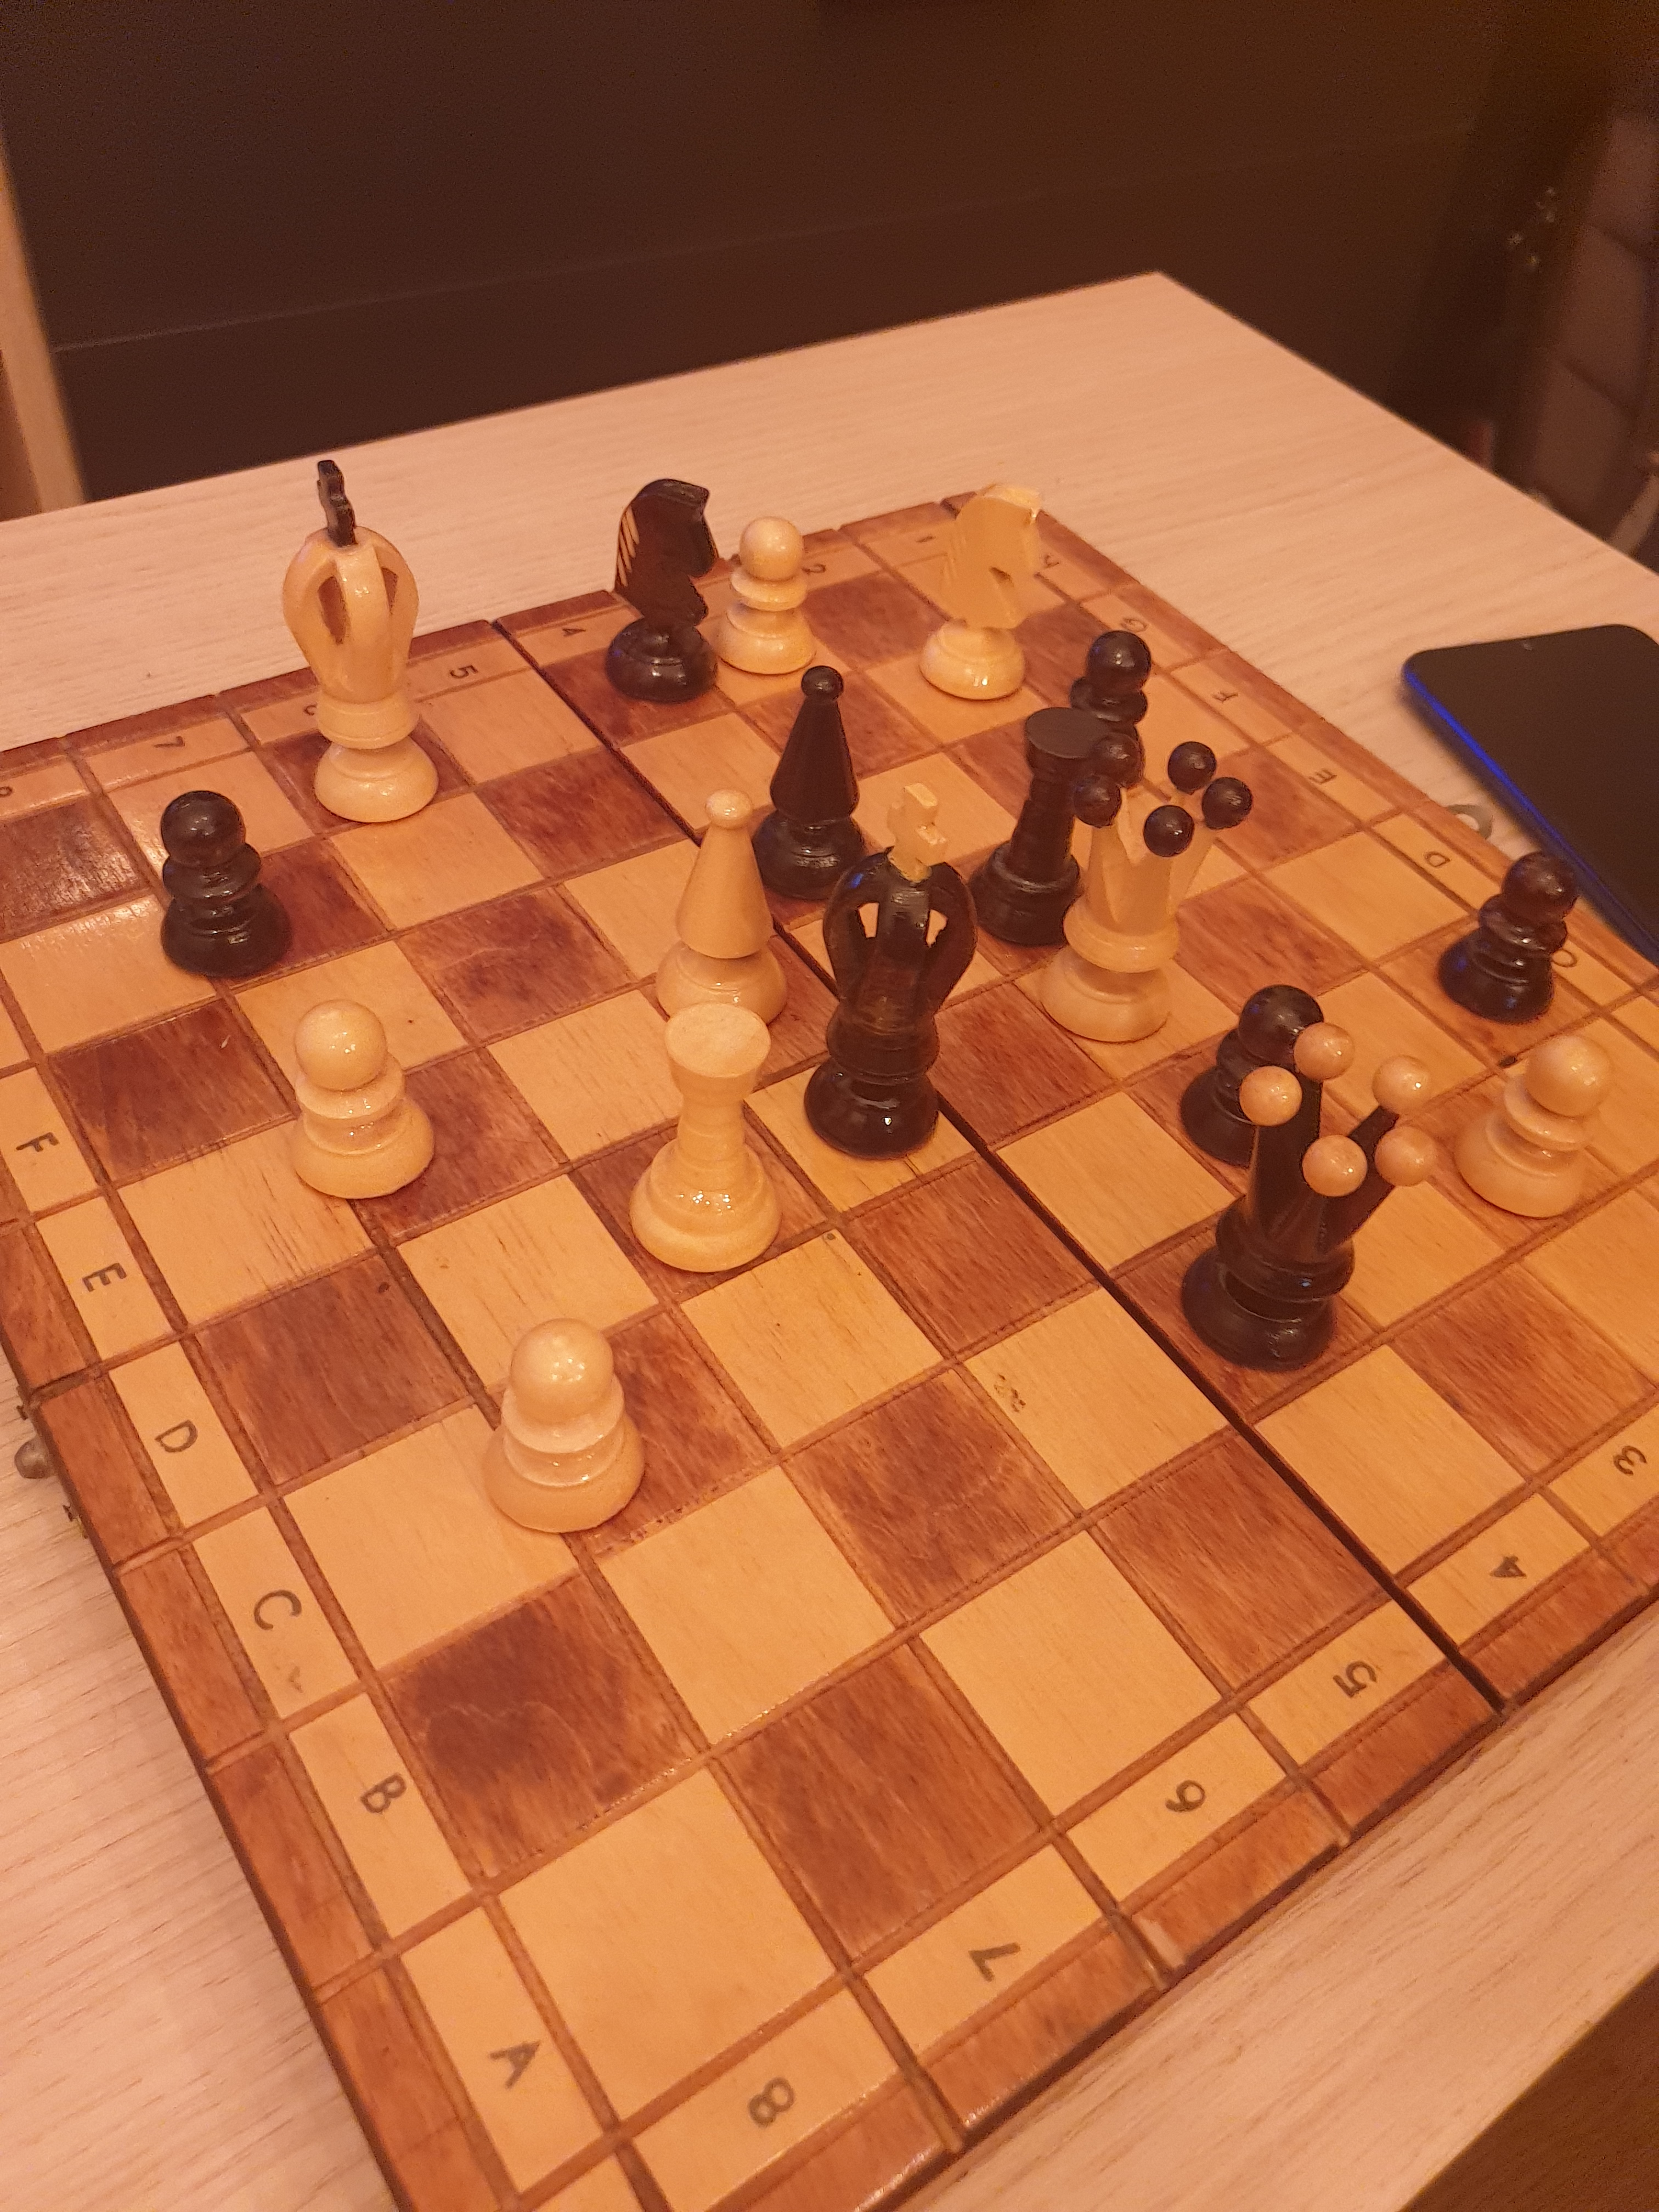bbishop: (739, 655, 882, 923)
bking: (807, 773, 986, 1165)
bknight: (598, 465, 721, 712)
bpawn: (145, 775, 298, 991), (1169, 975, 1333, 1174), (1425, 833, 1584, 1035), (1053, 624, 1161, 801)
bqueen: (1176, 1015, 1452, 1393)
brook: (950, 700, 1124, 960)
wbishop: (645, 780, 800, 1049)
wking: (268, 441, 471, 841)
wknight: (913, 472, 1053, 712)
wpawn: (474, 1312, 657, 1543), (1432, 1019, 1615, 1238), (272, 988, 448, 1214), (699, 503, 828, 695)
wqueen: (1035, 719, 1262, 1054)
wrook: (617, 991, 784, 1284)
